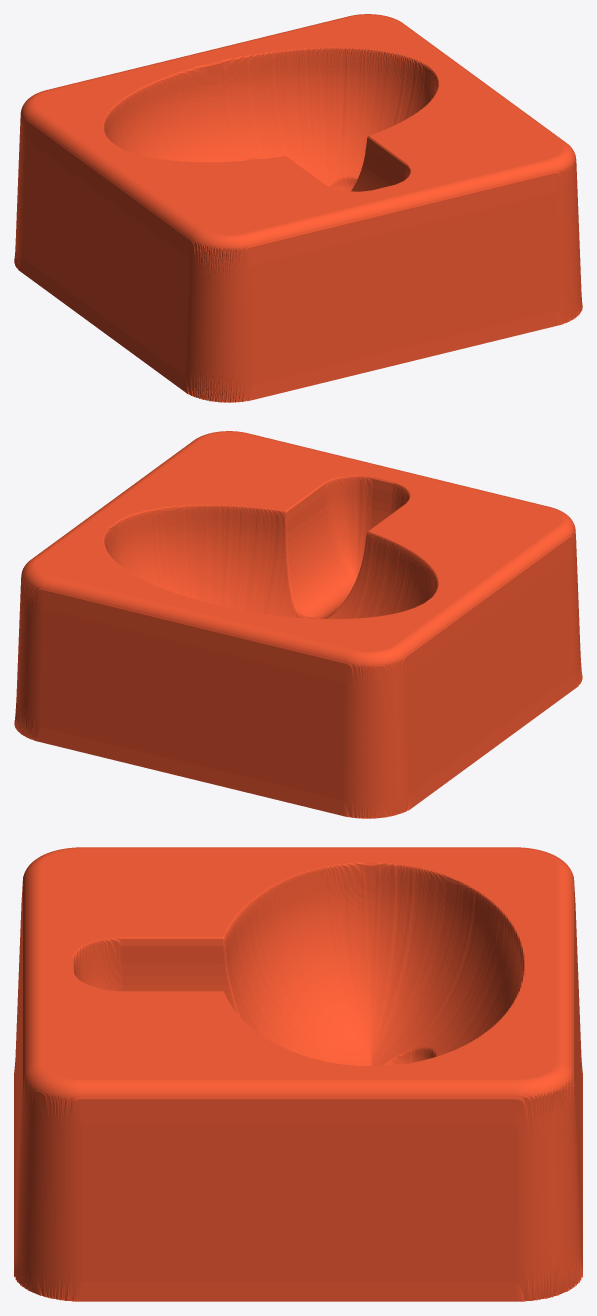
File: mold.glb
3 views of the same model, one above another, from view 1: azimuth 30°, elevation 25°; view 2: azimuth 150°, elevation 25°; view 3: azimuth 270°, elevation 25° (orthographic). The views are drawn at different scales.
Visible parts, largest first — view 1: geometry_0; view 2: geometry_0; view 3: geometry_0.
Part boxes in pixels (box(x1,y1,x2,y2)): geometry_0: box(14, 14, 582, 402); geometry_0: box(14, 431, 582, 818); geometry_0: box(14, 847, 582, 1301).
Size of the model in its own units: 0.0798 by 0.031 by 0.0758.
